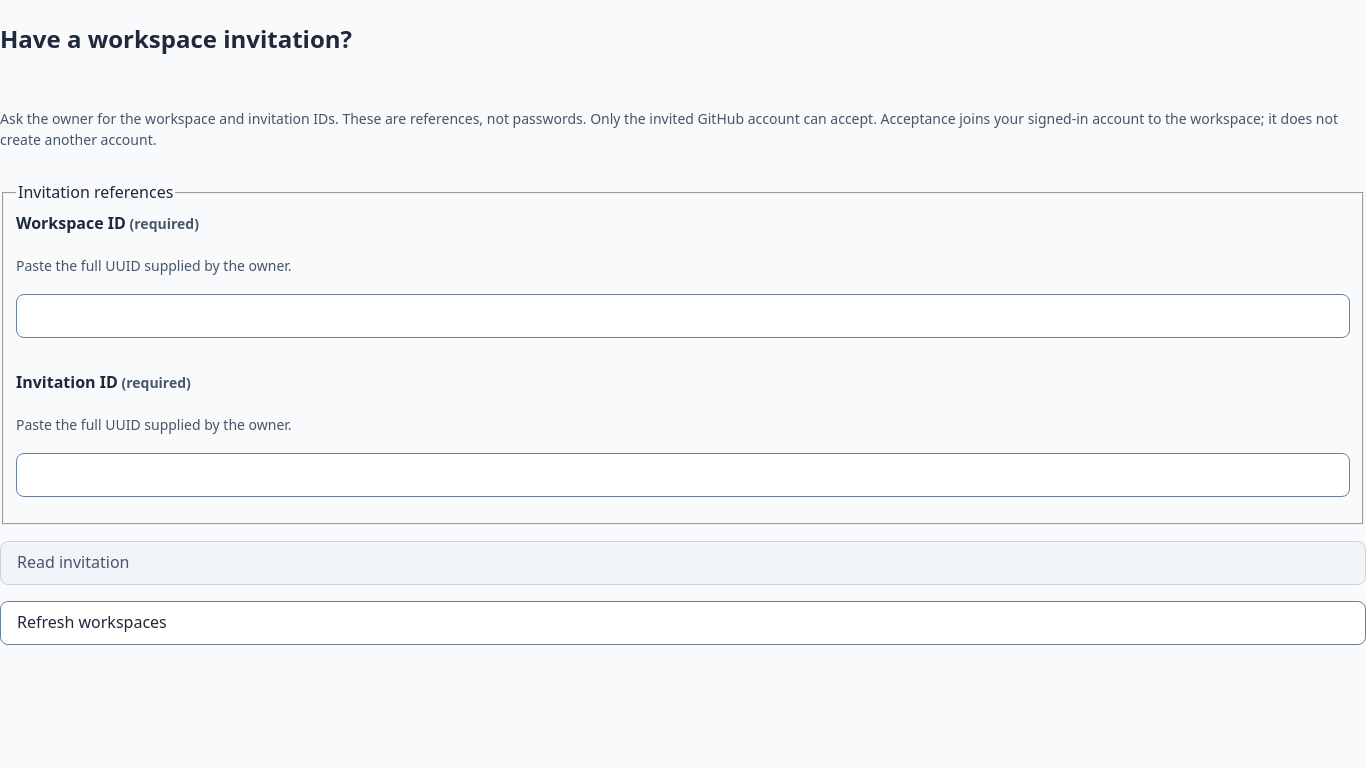
requires confirmation, posts no identity, then refreshes only a matching receipt
Type "11111111-1111-4111-8111-111111111111" into the field labelled "Workspace ID (required)" at (683, 316), box [16,294,1350,338]
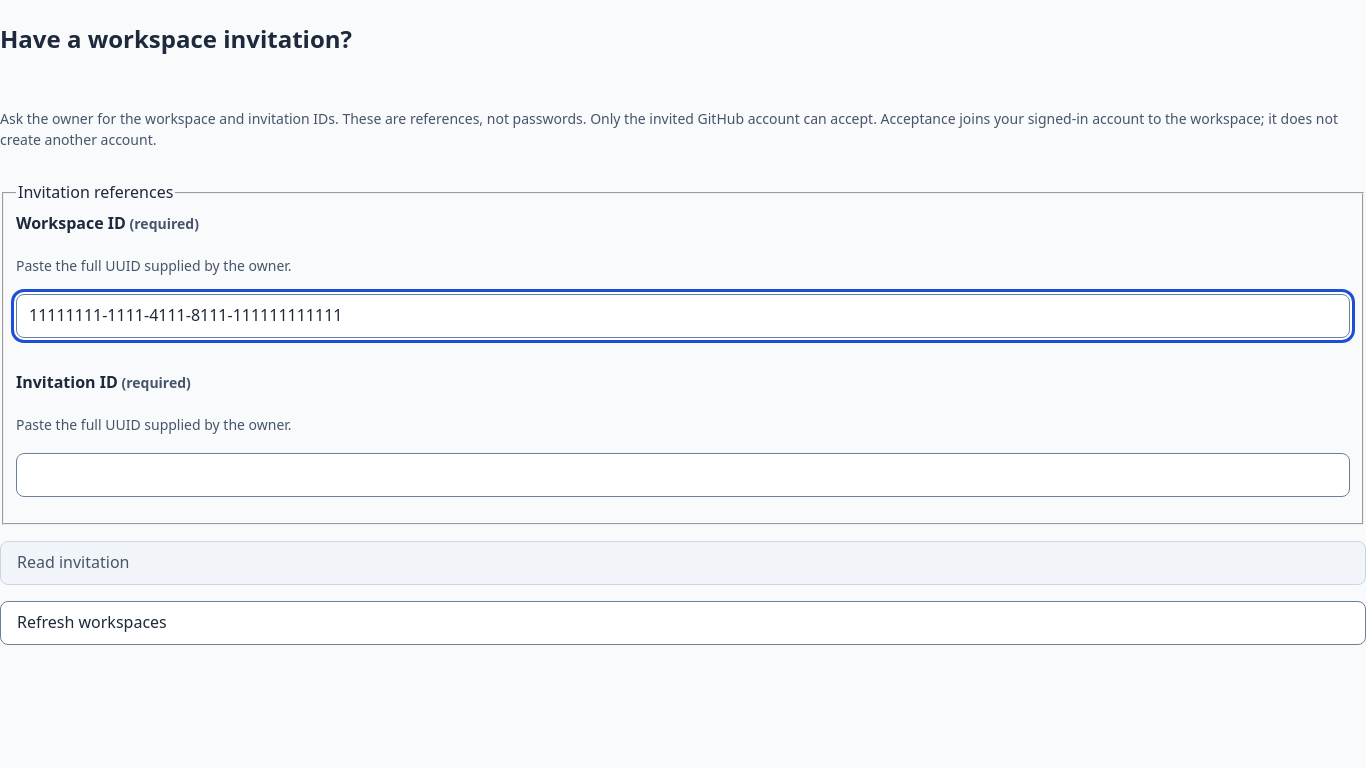
Type "22222222-2222-4222-8222-222222222222" into the field labelled "Invitation ID (required)" at (683, 475), box [16,453,1350,497]
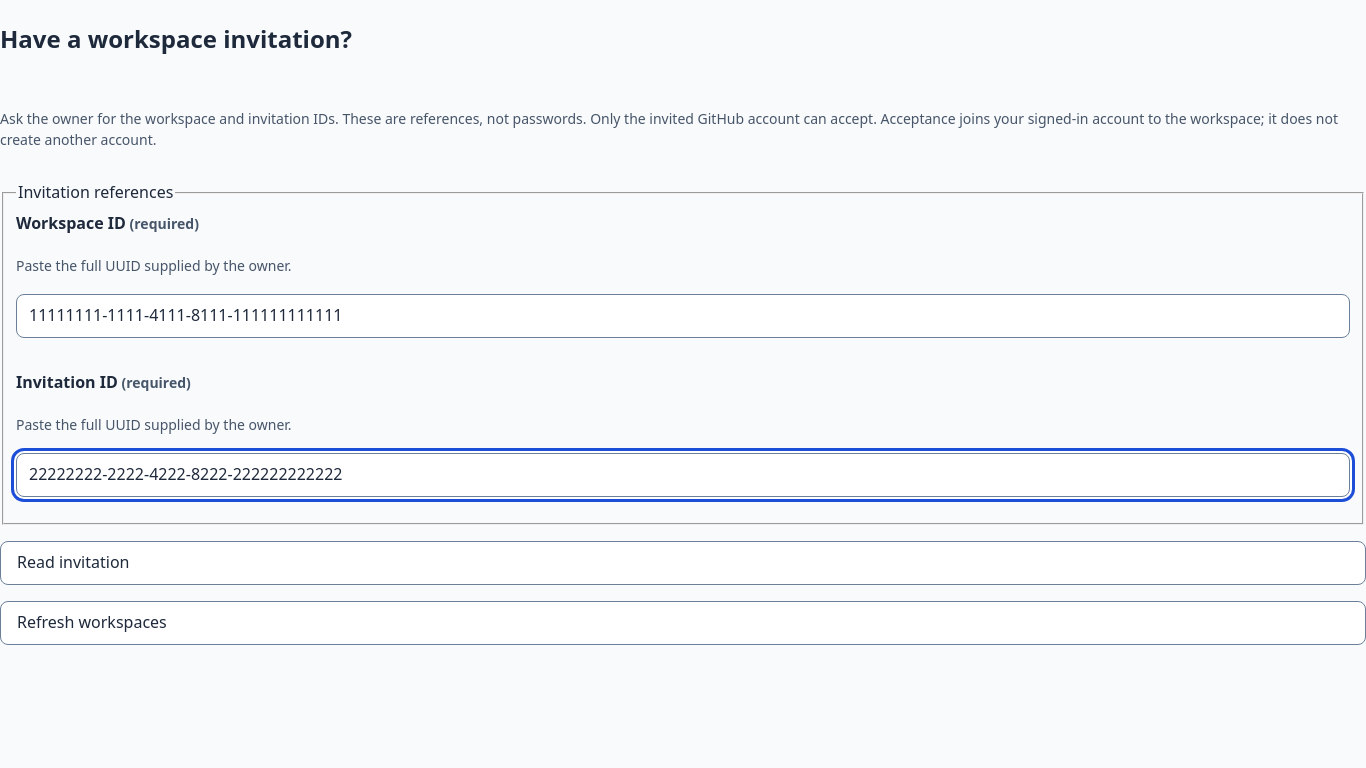
Click the button "Read invitation" at (73, 562), box [0,541,1365,585]
(page scrolled)
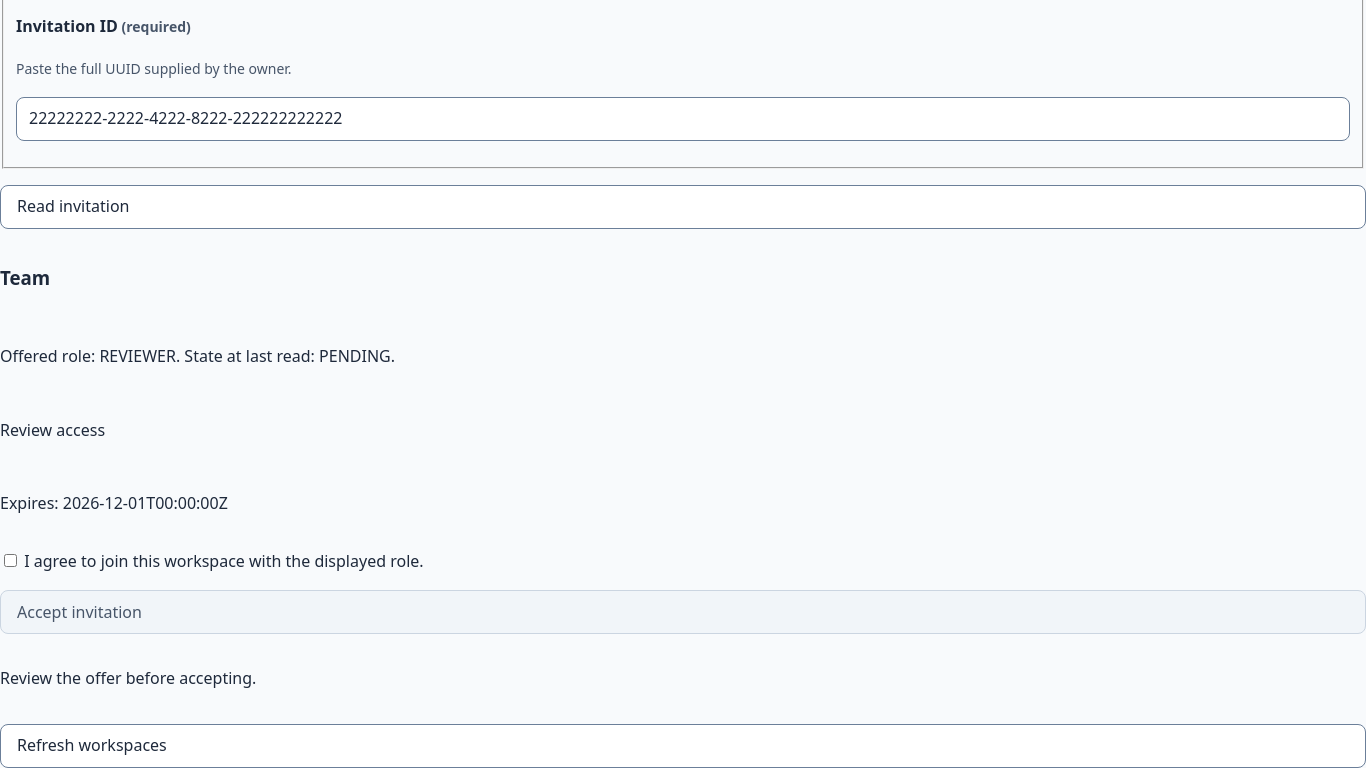
Expected: the button "Accept invitation" is disabled, [0,590,1365,634]
Click the checkbox at (10, 560), box [4,554,17,567]
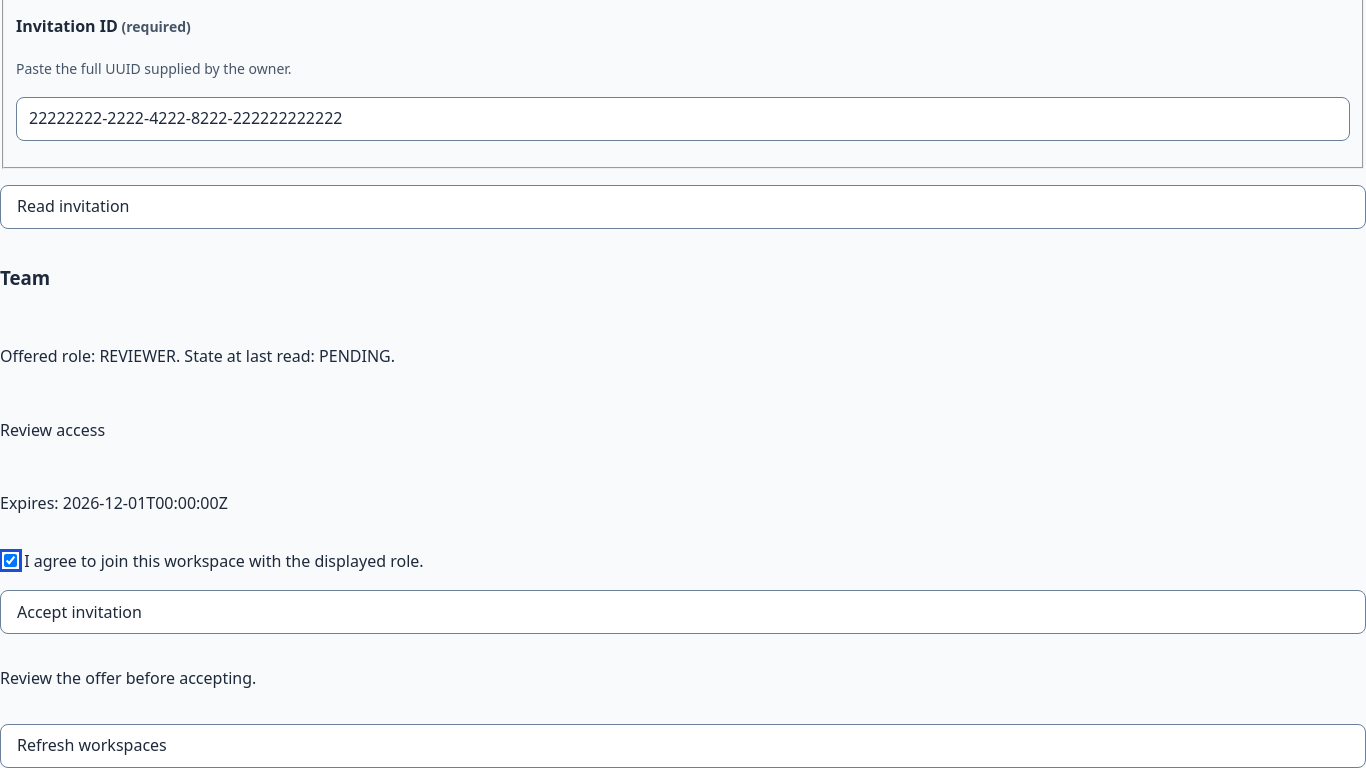
Click the button "Accept invitation" at (79, 612), box [0,590,1365,634]
(page scrolled)
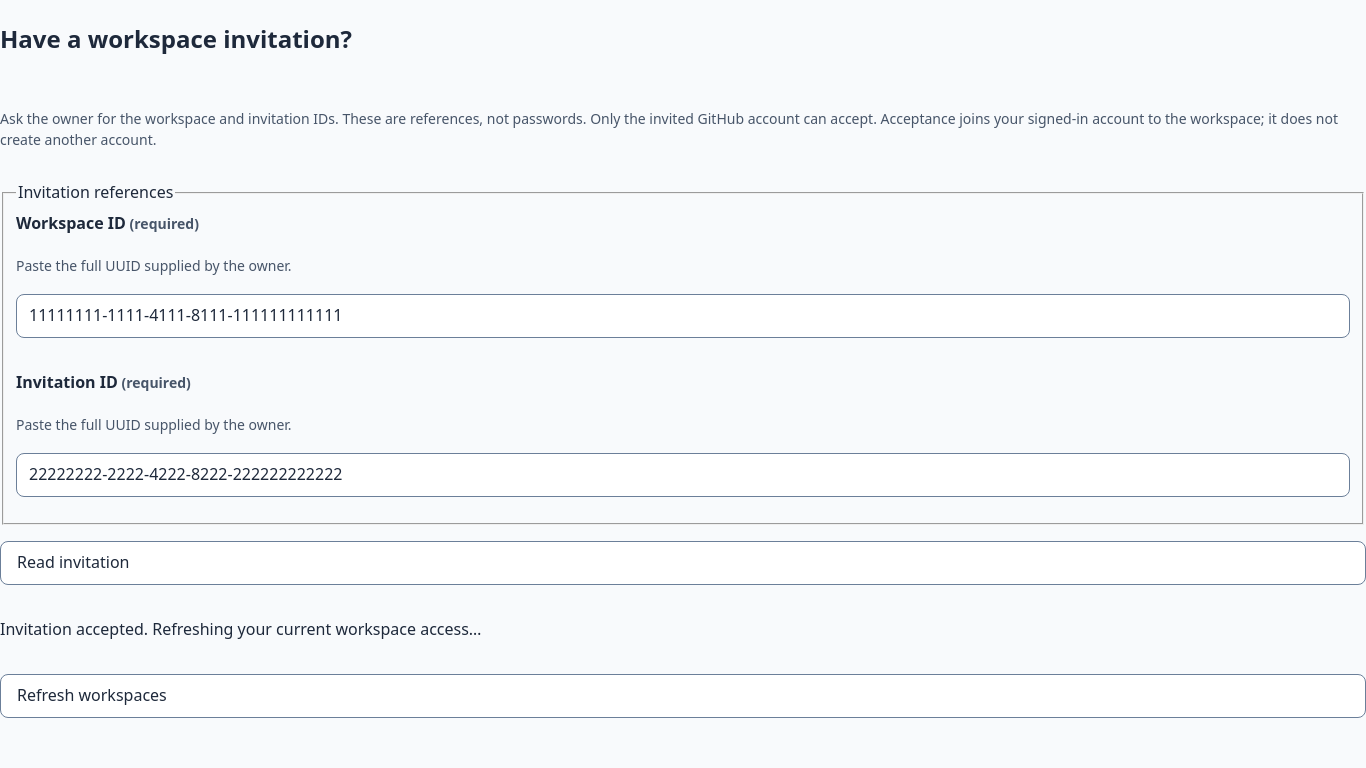
Expected: the message shows "Invitation accepted", [0,618,482,640]
